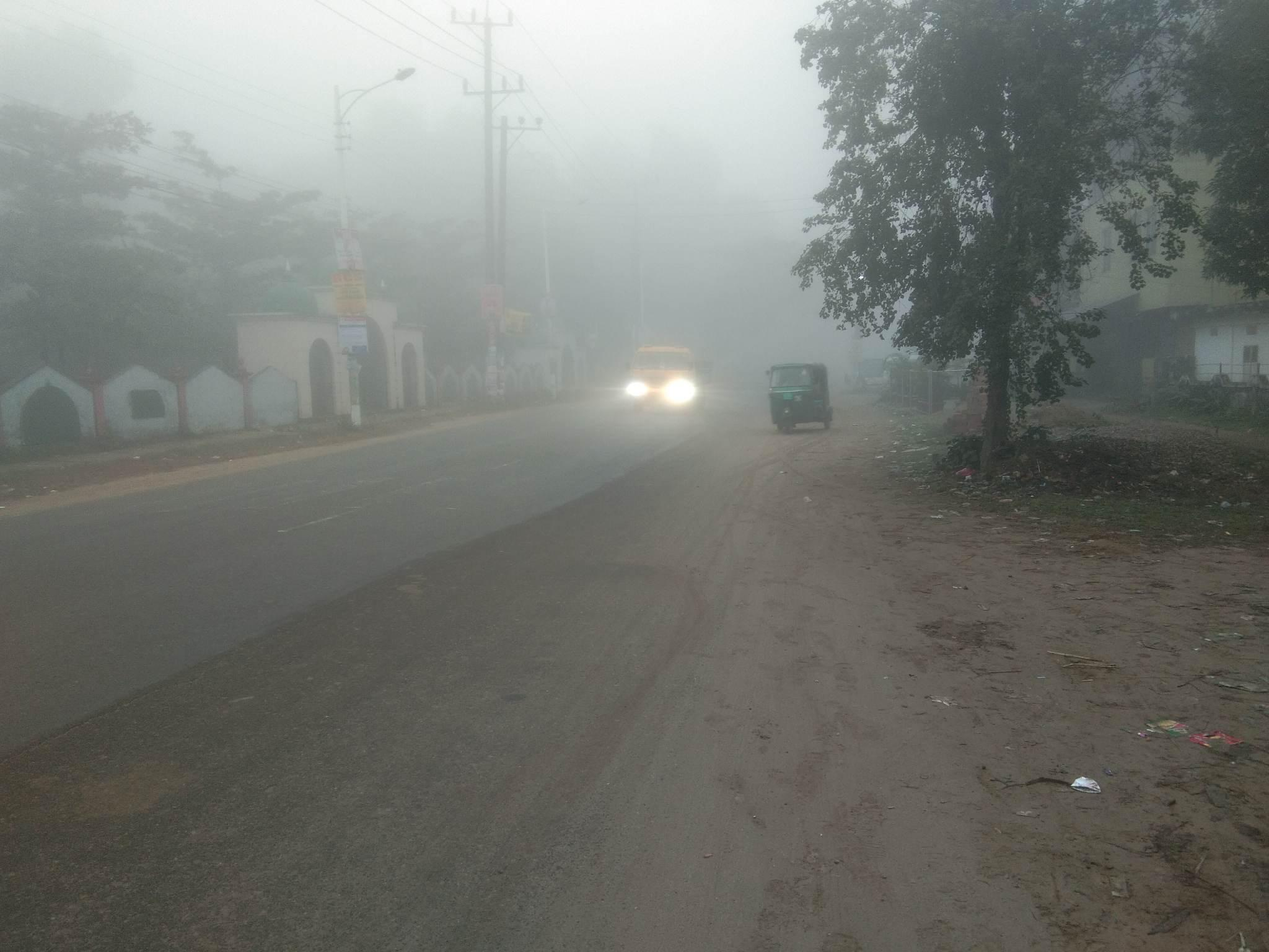Truck: (621, 330, 722, 423)
